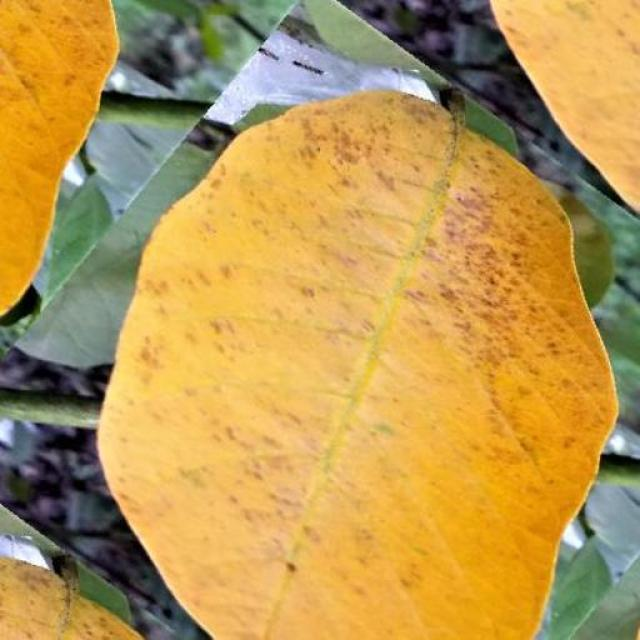Rust: (99, 92, 618, 640), (0, 0, 118, 313), (494, 2, 640, 203), (0, 561, 141, 640)
